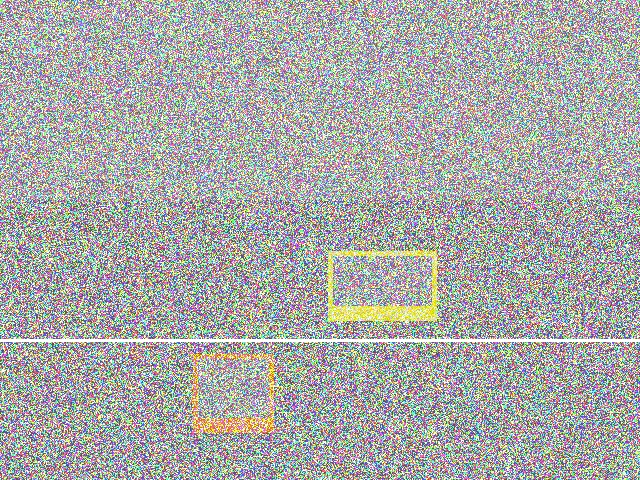car: (92, 236, 198, 364), (100, 262, 279, 332)
motorcycle: (23, 138, 156, 231)
